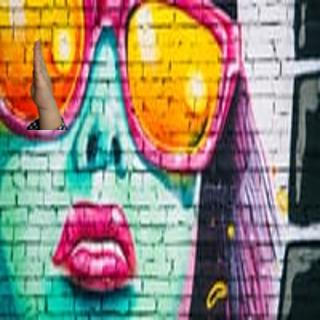RIGHT: (26, 37, 59, 113)
